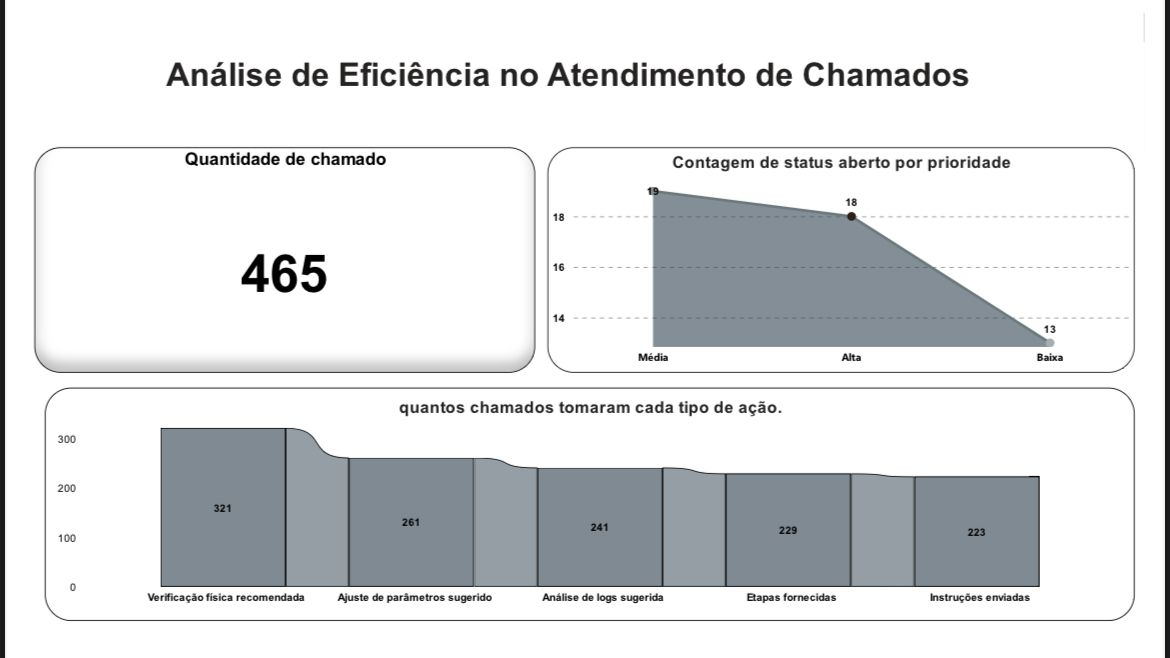

This screenshot's page, from the dashboard's own definition file:
{"tool":"powerbi","page":{"name":"Página 1","canvas":[1280,720],"ordinal":0},"visuals":[{"type":"card","title":"Quantidade de chamado","fields":{"Values":["Sum(Detalhe_chamado.id_chamado)"]},"box":[10,154,573,258],"z":0},{"type":"areaChart","title":"Contagem de status aberto por prioridade","fields":{"Category":["Descricao_chamado.prioridade"],"Y":["CountNonNull(Descricao_chamado.status)"]},"box":[597,154,672,258],"z":1000},{"type":"ribbonChart","title":"quantos chamados tomaram cada tipo de ação.","fields":{"Category":["Problema_IA.Solucao_ia"],"Y":["Sum(Descricao_chamado.id_chamado)"]},"box":[22,429,1247,267],"z":2000},{"type":"textbox","box":[10,43,1222,69],"z":3000}]}

Visuals, with their boxes in screenshot pixels (x1, y1, x2, y2), scaled from the page's 1280x720 canvas onto the 1170x658 screenshot:
"Quantidade de chamado" card: [9,141,533,377]
"Contagem de status aberto por prioridade" areaChart: [546,141,1160,377]
"quantos chamados tomaram cada tipo de ação." ribbonChart: [20,392,1160,636]
textbox: [9,39,1126,102]
